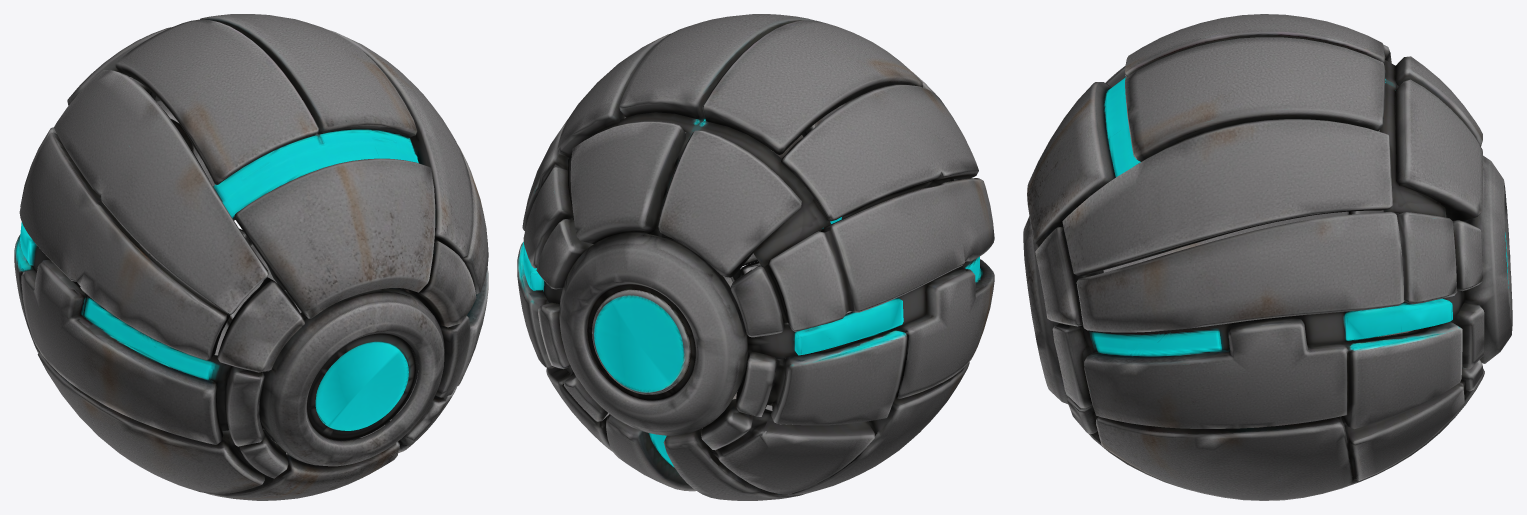
The model's file is aci-01.glb.
The picture shows the model from 3 angles, left to right: view 1: azimuth 30°, elevation 25°; view 2: azimuth 150°, elevation 25°; view 3: azimuth 270°, elevation 25°; orthographic projection.
Visible parts, largest first — view 1: aci-01-tripo-master; view 2: aci-01-tripo-master; view 3: aci-01-tripo-master.
Part boxes in pixels (x1=…): aci-01-tripo-master: x1=14, y1=14, x2=488, y2=500; aci-01-tripo-master: x1=517, y1=14, x2=994, y2=500; aci-01-tripo-master: x1=1023, y1=14, x2=1512, y2=500.
Size of the model in its own units: 0.9624 by 0.9995 by 0.9956.
1 material, 1 textured.
